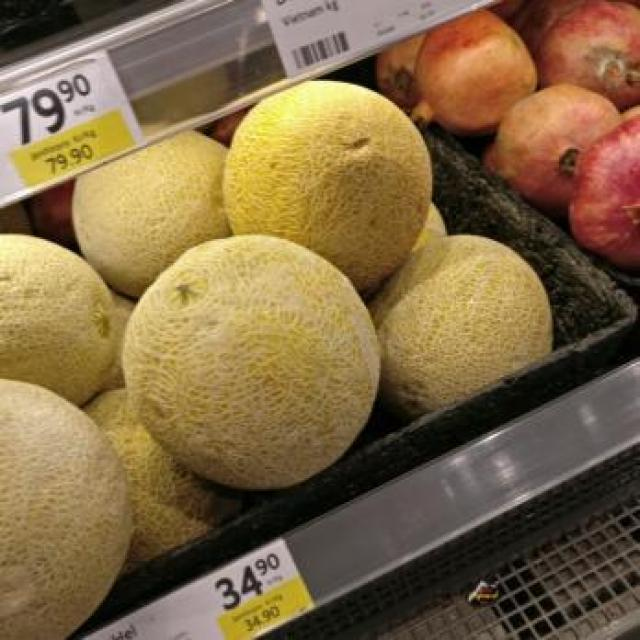Cantaloupe: (125, 224, 388, 484), (221, 74, 434, 290), (0, 358, 145, 638), (373, 221, 565, 412), (48, 103, 232, 285), (0, 222, 131, 396)
Pomegranate: (489, 68, 627, 202), (419, 16, 537, 130), (559, 120, 638, 288)
